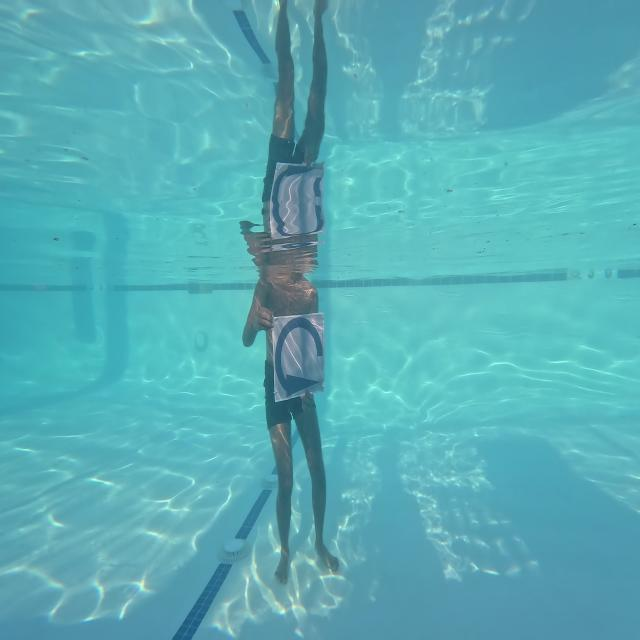blue_side: (272, 316, 328, 402)
